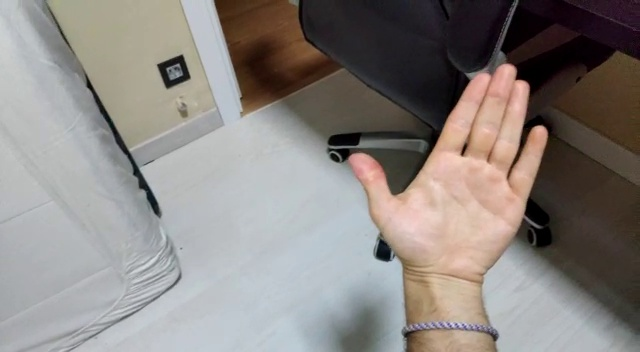Palm: (347, 63, 550, 290)
